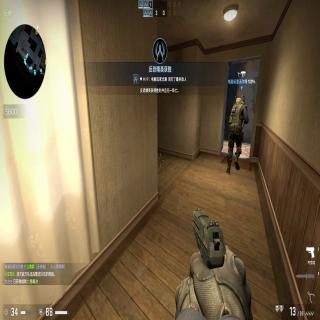CT-Body: (225, 92, 249, 176)
CT-Head: (237, 93, 245, 103)
